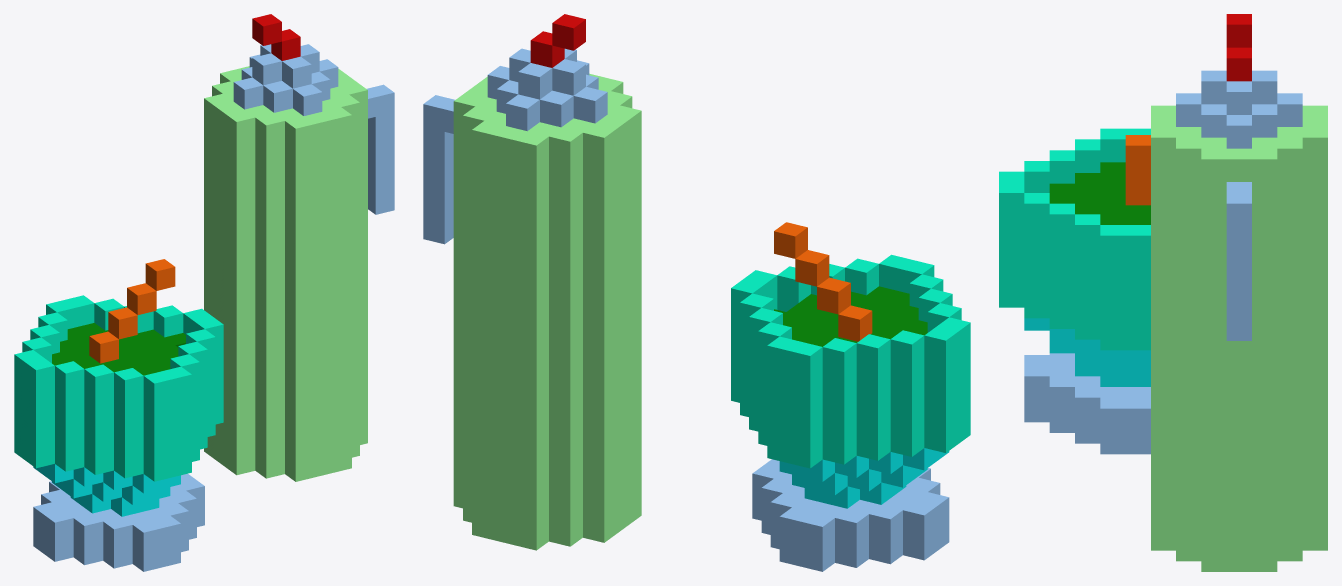
File: mate.glb
The picture shows the model from 3 angles, left to right: view 1: azimuth 30°, elevation 25°; view 2: azimuth 150°, elevation 25°; view 3: azimuth 270°, elevation 25°; orthographic projection. The views are drawn at different scales.
Visible parts, largest first — view 1: Untitled; view 2: Untitled; view 3: Untitled.
Part boxes in pixels (bbox=[...]): Untitled: bbox=[14, 14, 394, 571]; Untitled: bbox=[423, 14, 970, 571]; Untitled: bbox=[999, 14, 1327, 571].
Size of the model in its own units: 2.2 by 2.2 by 1.3.
Materials: 1 (1 with a texture image).
